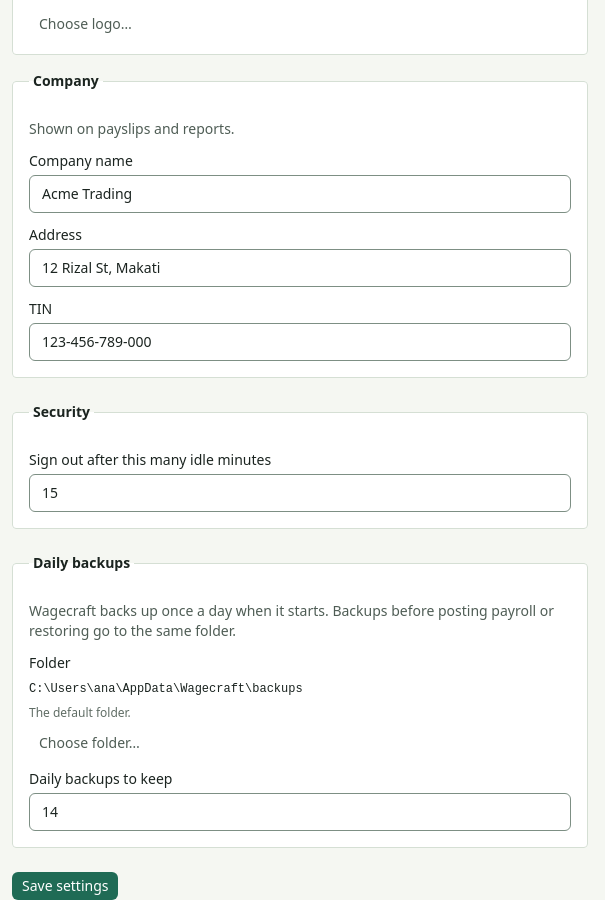
Test: SettingsPage › shows the server's reason next to the field
(page scrolled)
Expected: the field labelled "Company name" holds "Acme Trading", [29, 175, 571, 213]
Click the button "Save settings" at (65, 886), box [12, 872, 118, 899]
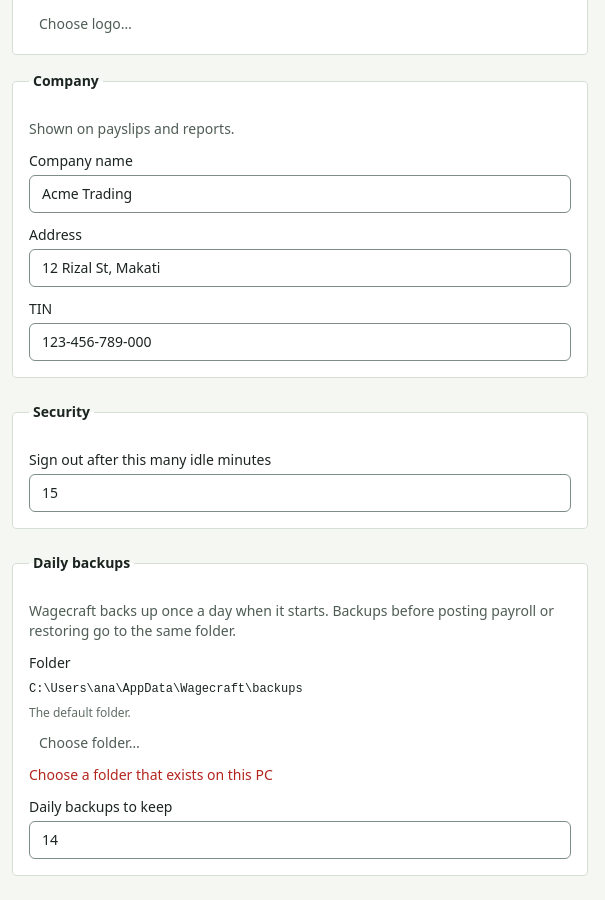
Expected: the text "Choose a folder that exists on this PC" is shown, [29, 765, 273, 784]
